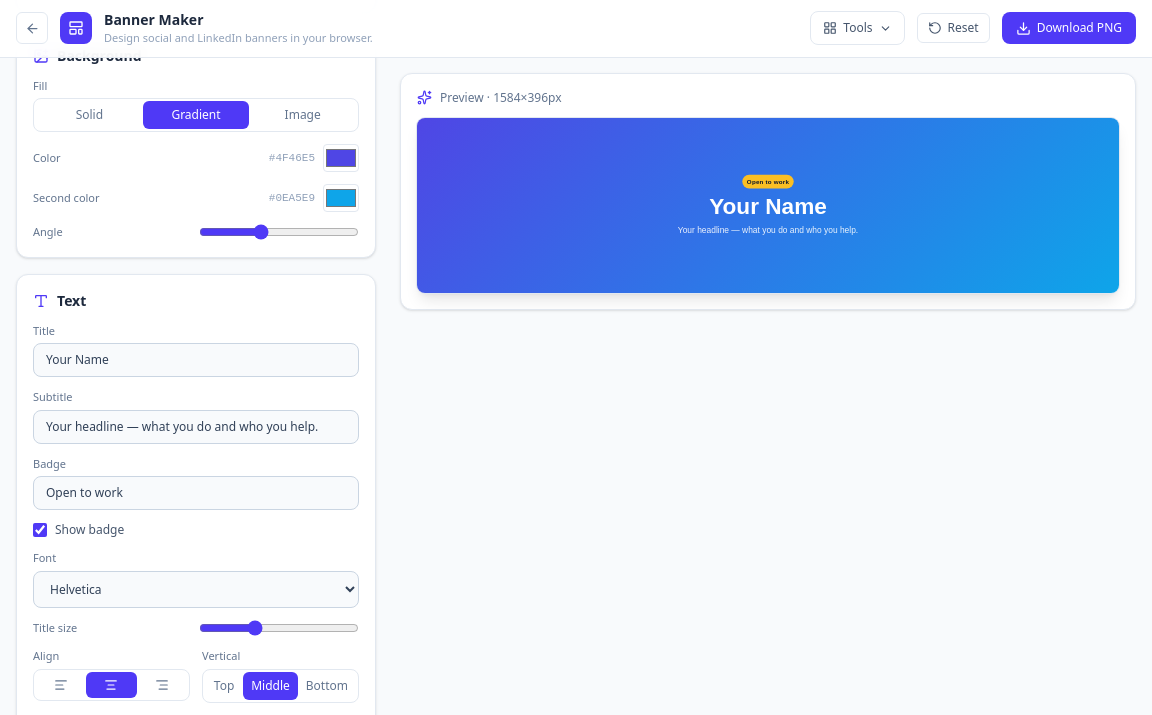
BannerApp › confirms before resetting the design
The image size is (1152, 715).
(page scrolled)
Replace the text in the field showing "Your Name" with "Temp" at {"x": 196, "y": 360}, box [33,343,359,377]
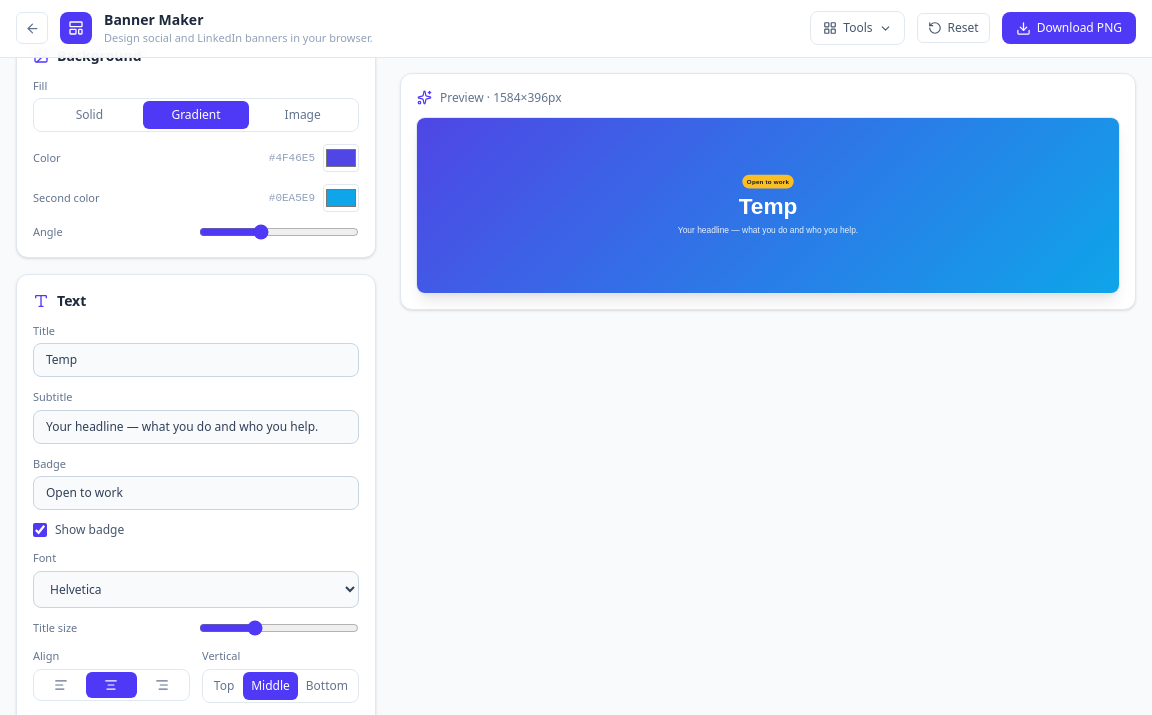
Click the button "Reset" at {"x": 953, "y": 28}, box [917,13,990,43]
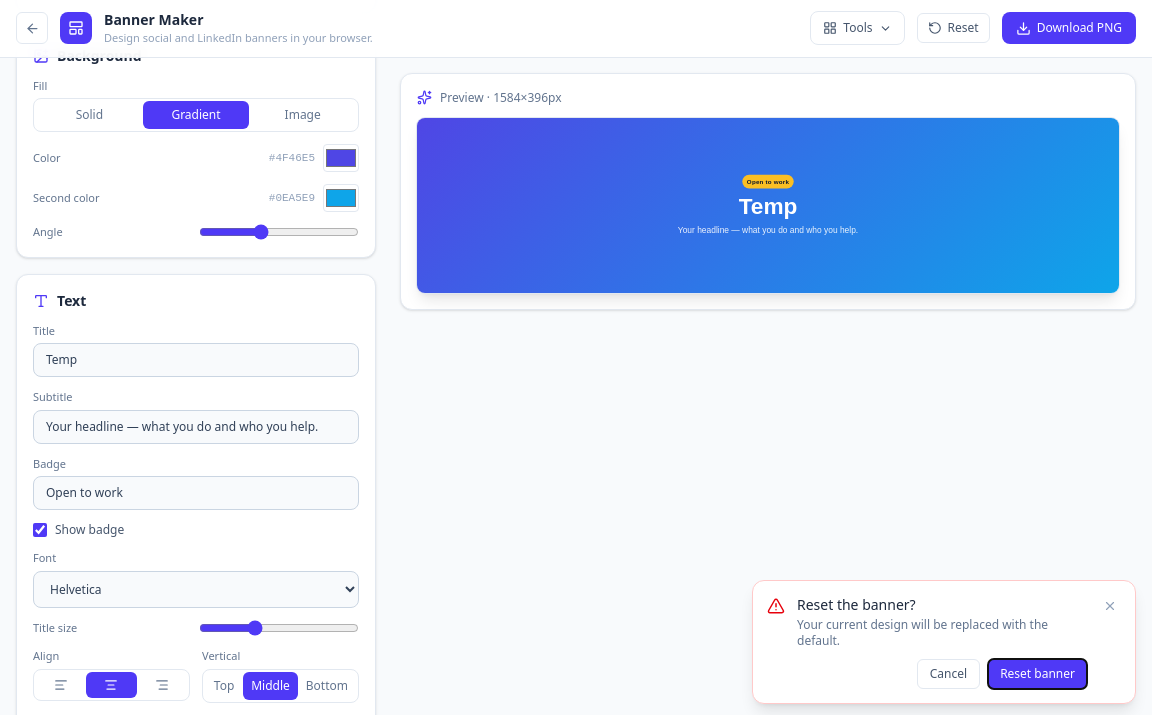
Check: the text "Reset the banner?" is shown, box [797,595,916,614]
Click the button "Reset banner" at {"x": 1038, "y": 674}, box [988,659,1087,689]
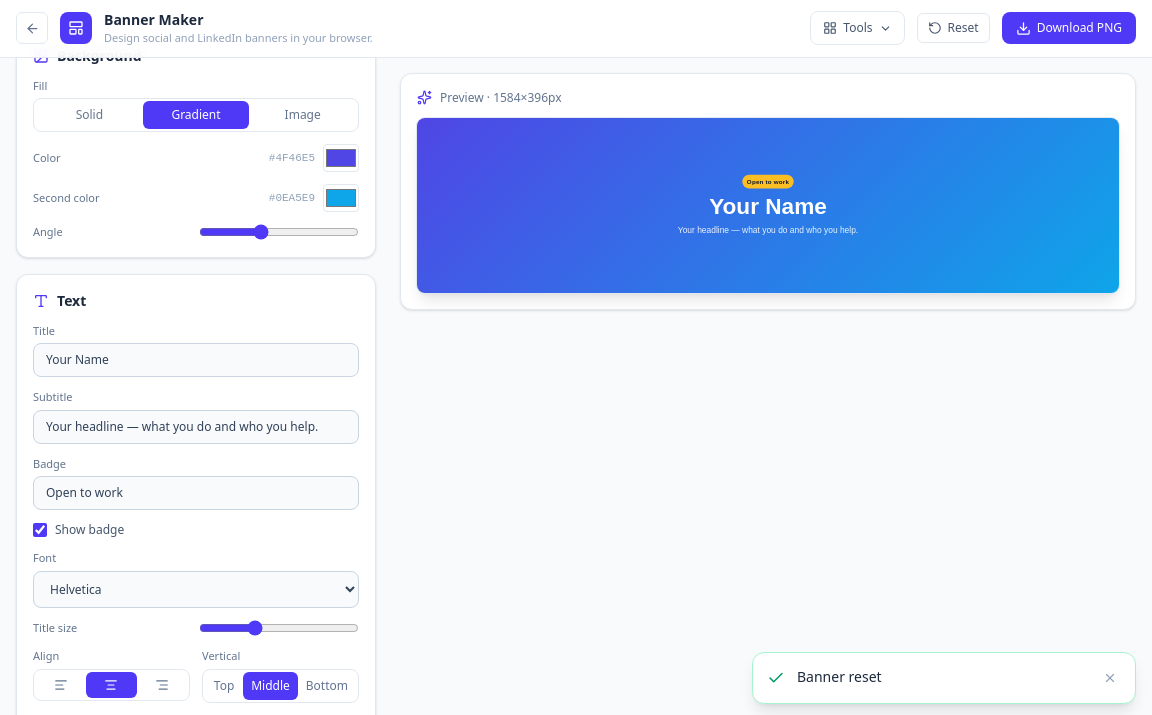
Check: the field showing "Your Name" is shown, box [33,343,359,377]
